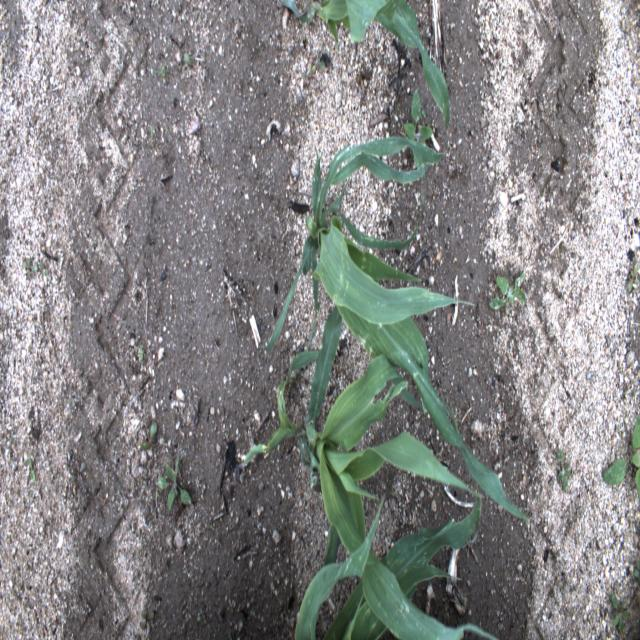crop: (262, 136, 536, 525), (300, 306, 500, 640), (322, 488, 481, 639), (274, 0, 451, 128), (295, 493, 384, 639), (236, 344, 320, 471)
weed: (156, 450, 192, 508), (402, 81, 434, 145), (486, 270, 528, 318), (601, 458, 630, 492), (628, 407, 638, 504), (606, 590, 628, 634), (139, 416, 158, 456), (558, 443, 571, 493), (67, 456, 87, 488), (22, 254, 47, 276), (309, 51, 329, 78), (624, 256, 637, 292), (23, 453, 38, 482), (134, 339, 146, 374), (138, 606, 156, 628), (192, 610, 208, 632), (155, 64, 169, 82), (149, 123, 158, 148), (184, 53, 197, 70), (632, 561, 638, 595)
